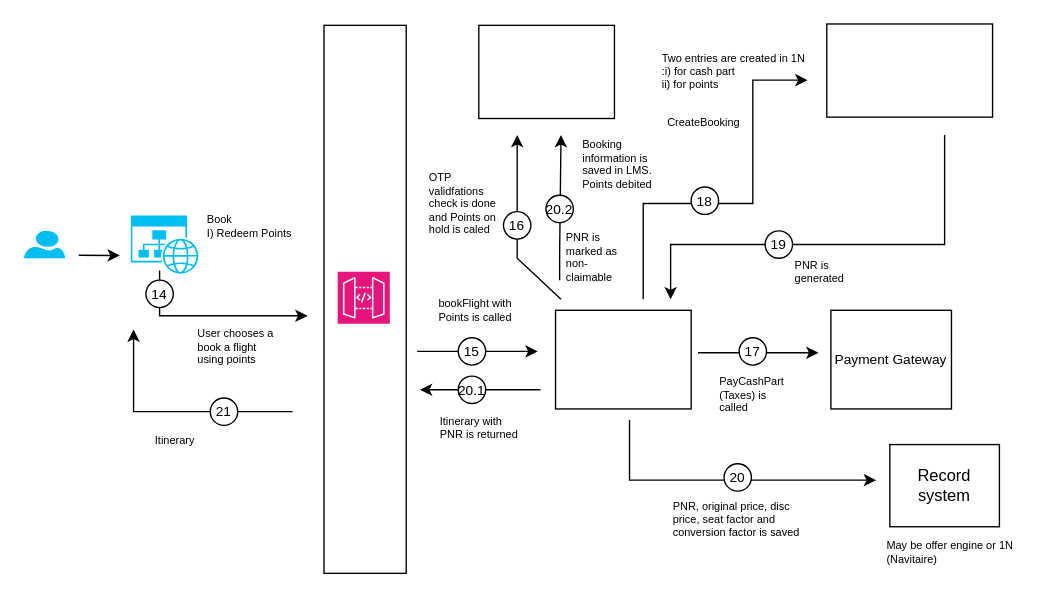
The diagram is 1041 pixels wide and 610 high, and some of its shapes have lost their labels. Each missing label, with the box of its shape:
1N API/Services: (825, 23, 993, 117)
LMS Services: (477, 24, 614, 119)
Skyplus Services: (554, 309, 691, 409)
